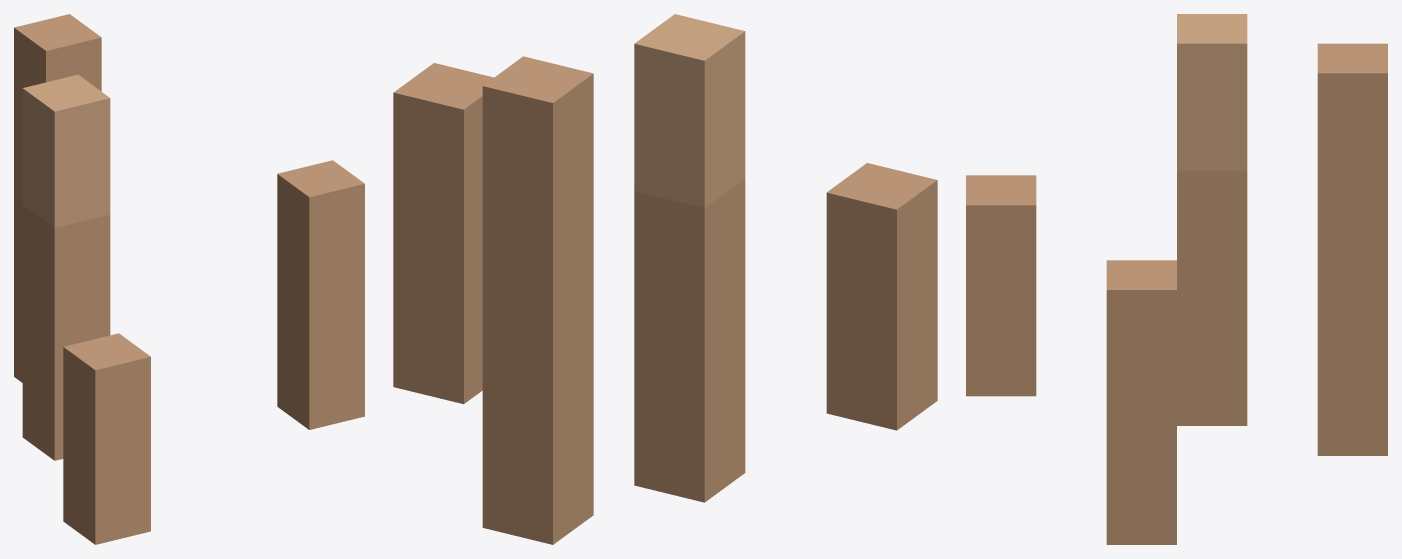
File: zanahoria_silvestre_02.glb
3 views of the same model, side by side, from view 1: azimuth 30°, elevation 25°; view 2: azimuth 150°, elevation 25°; view 3: azimuth 270°, elevation 25° (orthographic). The views are drawn at different scales.
Visible parts, largest first — view 1: zanahoria_silvestre_02; view 2: zanahoria_silvestre_02; view 3: zanahoria_silvestre_02.
Part boxes in pixels (left/top/right/bottom): zanahoria_silvestre_02: left=14, top=14, right=364, bottom=544; zanahoria_silvestre_02: left=393, top=14, right=937, bottom=544; zanahoria_silvestre_02: left=966, top=14, right=1387, bottom=544.
Size of the model in its own units: 0.6 by 0.6 by 0.6.
